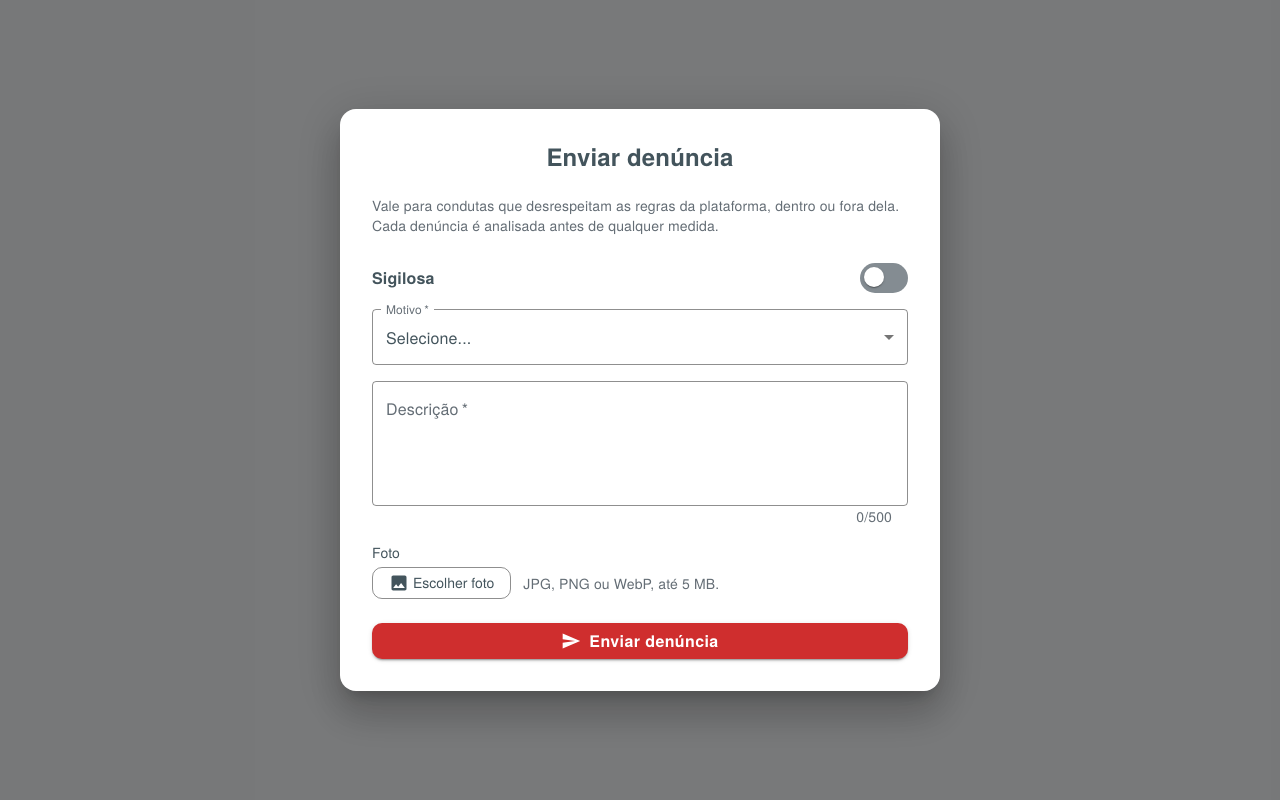
Scenario: ReportFormDialog › should say what confidential really means, only once it is chosen
The image size is (1280, 800).
expect the heading "Enviar denúncia" is shown: met, box [546,139,734,173]
Click the switch labelled "Sigilosa" at (884, 278), box [372,263,908,293]
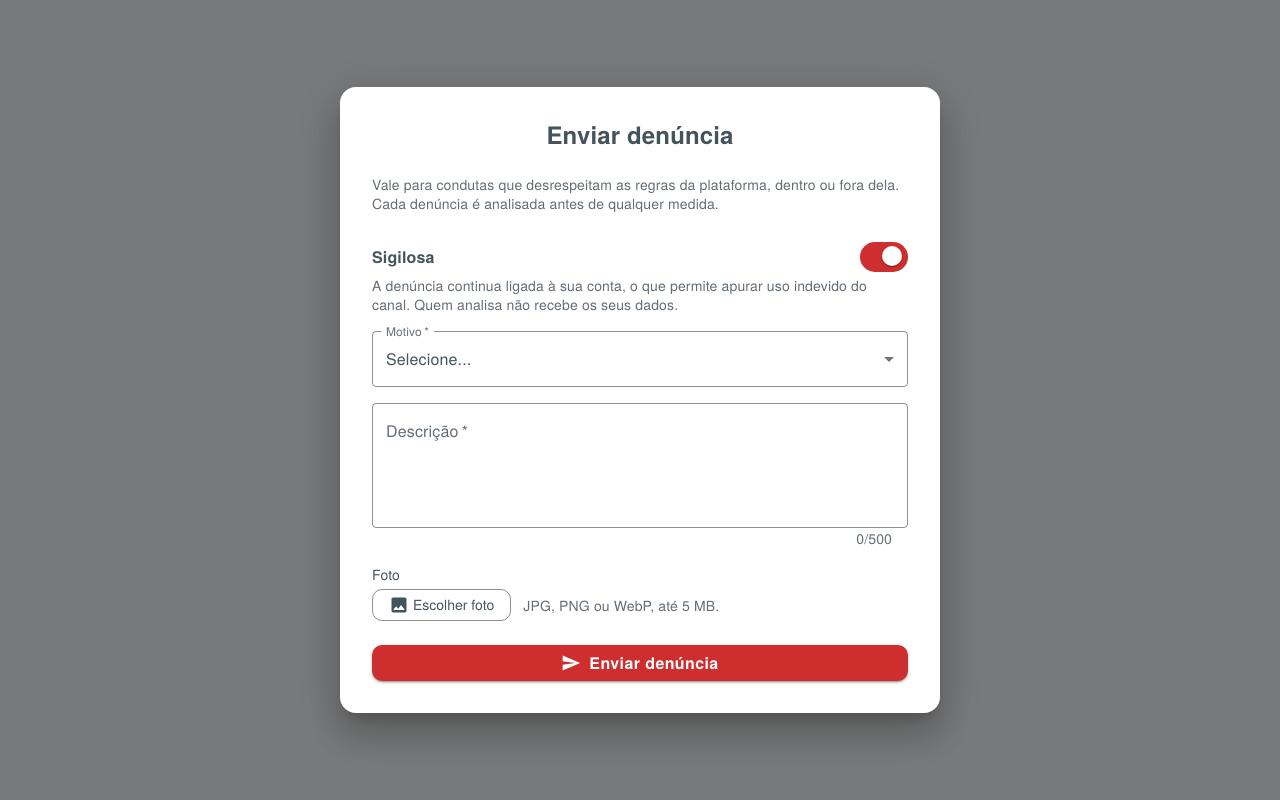
expect the text "A denúncia continua ligada à sua conta, o que permite apurar uso indevido do canal. Quem analisa não recebe os seus dado" is shown: met, box [372,275,867,314]
